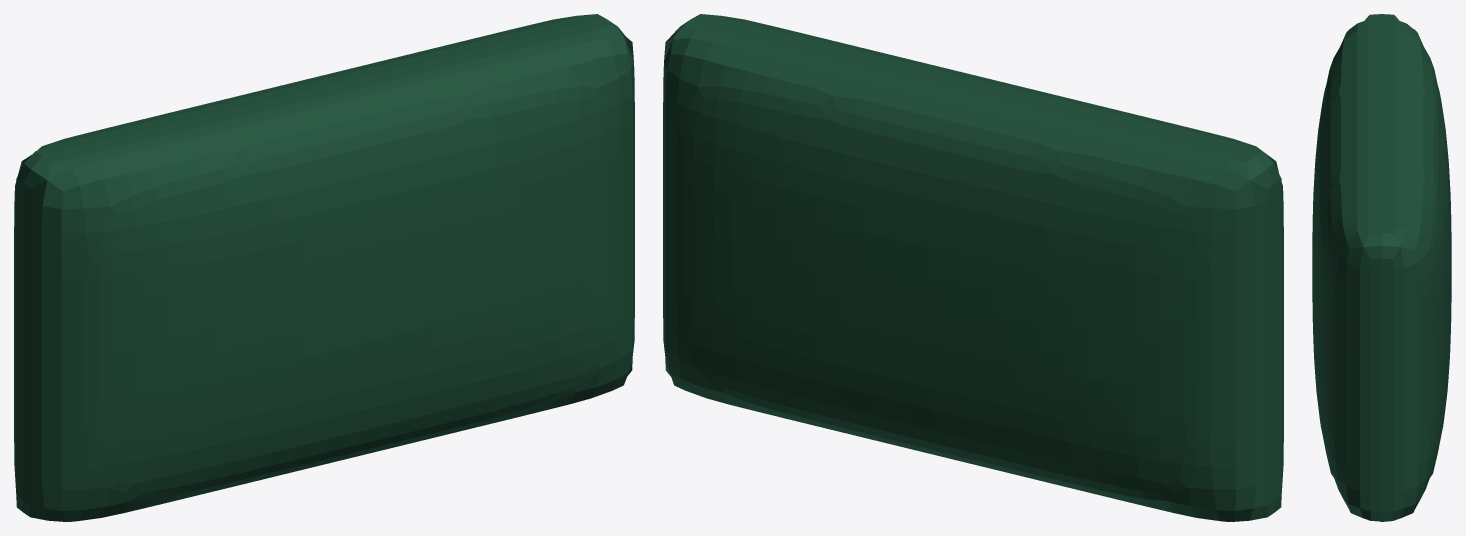
Rendered from FET-LMB-std.glb.
The picture shows the model from 3 angles, left to right: view 1: azimuth 30°, elevation 25°; view 2: azimuth 150°, elevation 25°; view 3: azimuth 270°, elevation 25°; orthographic projection. The views are drawn at different scales.
Visible parts, largest first — view 1: pillow-lumbar:pbr; view 2: pillow-lumbar:pbr; view 3: pillow-lumbar:pbr.
Part boxes in pixels (left/top/right/bottom): pillow-lumbar:pbr: left=14, top=14, right=634, bottom=521; pillow-lumbar:pbr: left=663, top=14, right=1283, bottom=521; pillow-lumbar:pbr: left=1312, top=14, right=1451, bottom=521.
Size of the model in its own units: 0.5426 by 0.3135 by 0.1362.
